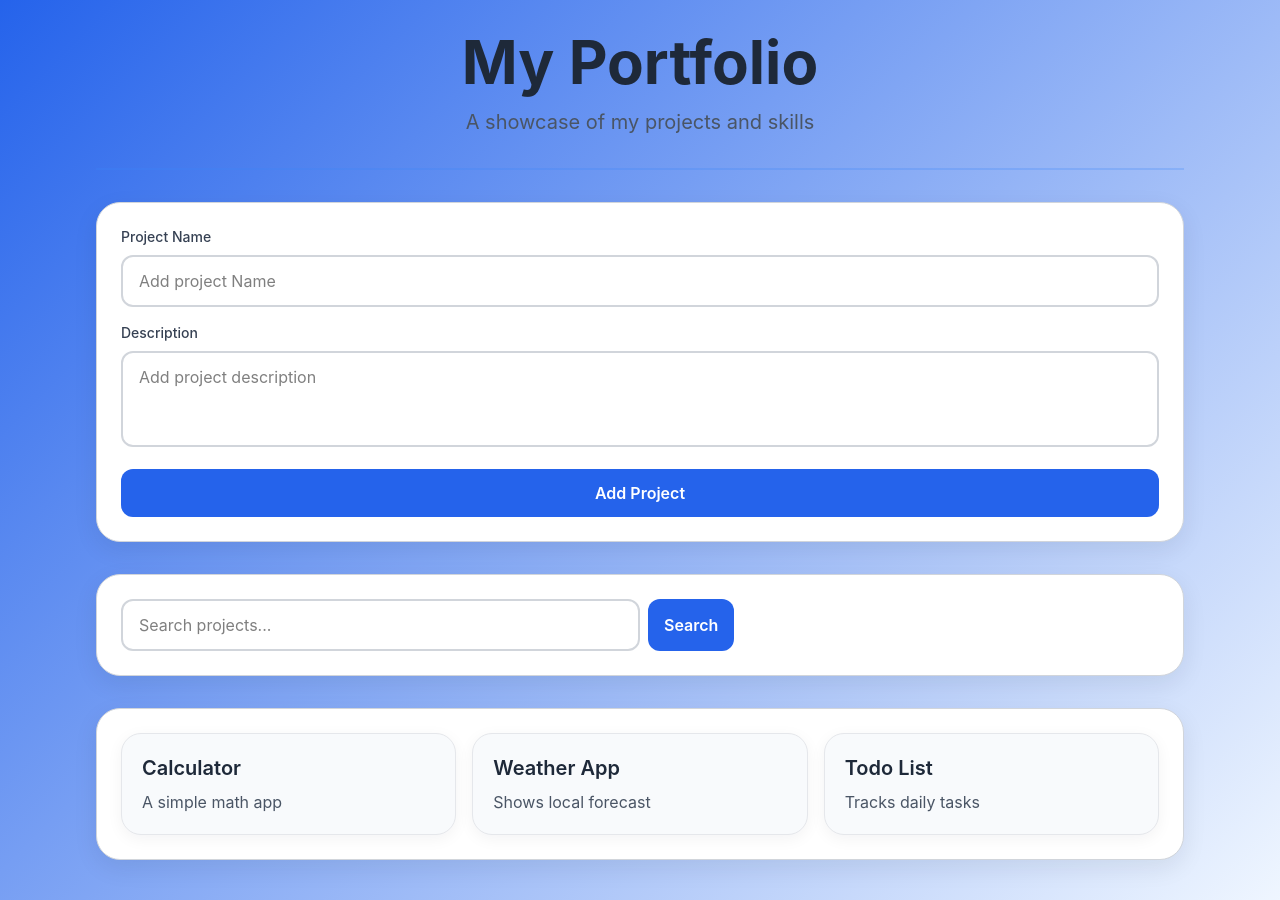
Test: App search behavior › finds searched items from the mocked db.json response
Expected: the heading "Calculator" is shown, [142,756,241,780]
Expected: the heading "Weather App" is shown, [493,756,620,780]
Type "weather" into the field with placeholder "Search projects..." at (380, 625), box [121,599,640,651]
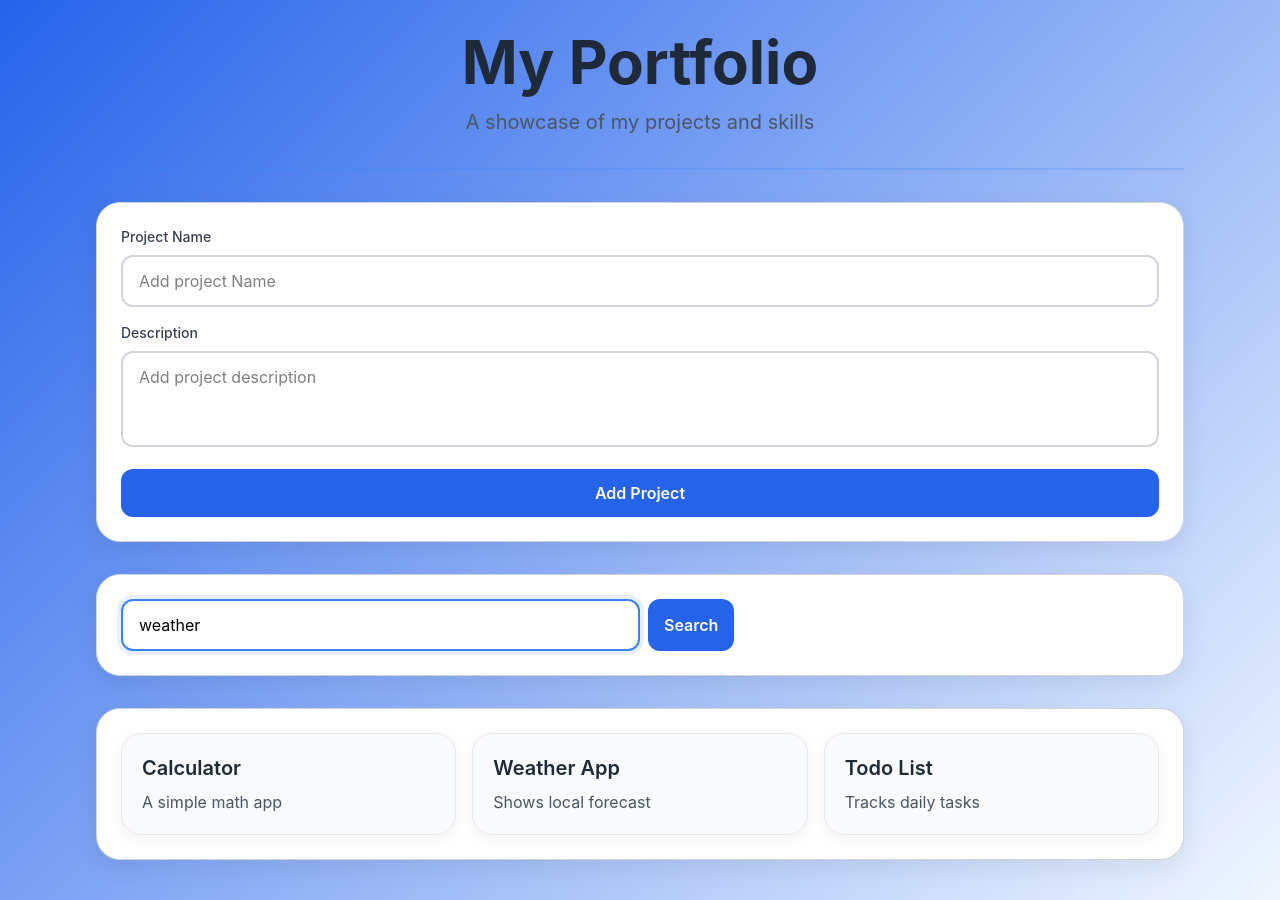
Click the button "Search" at (691, 625), box [648,599,734,651]
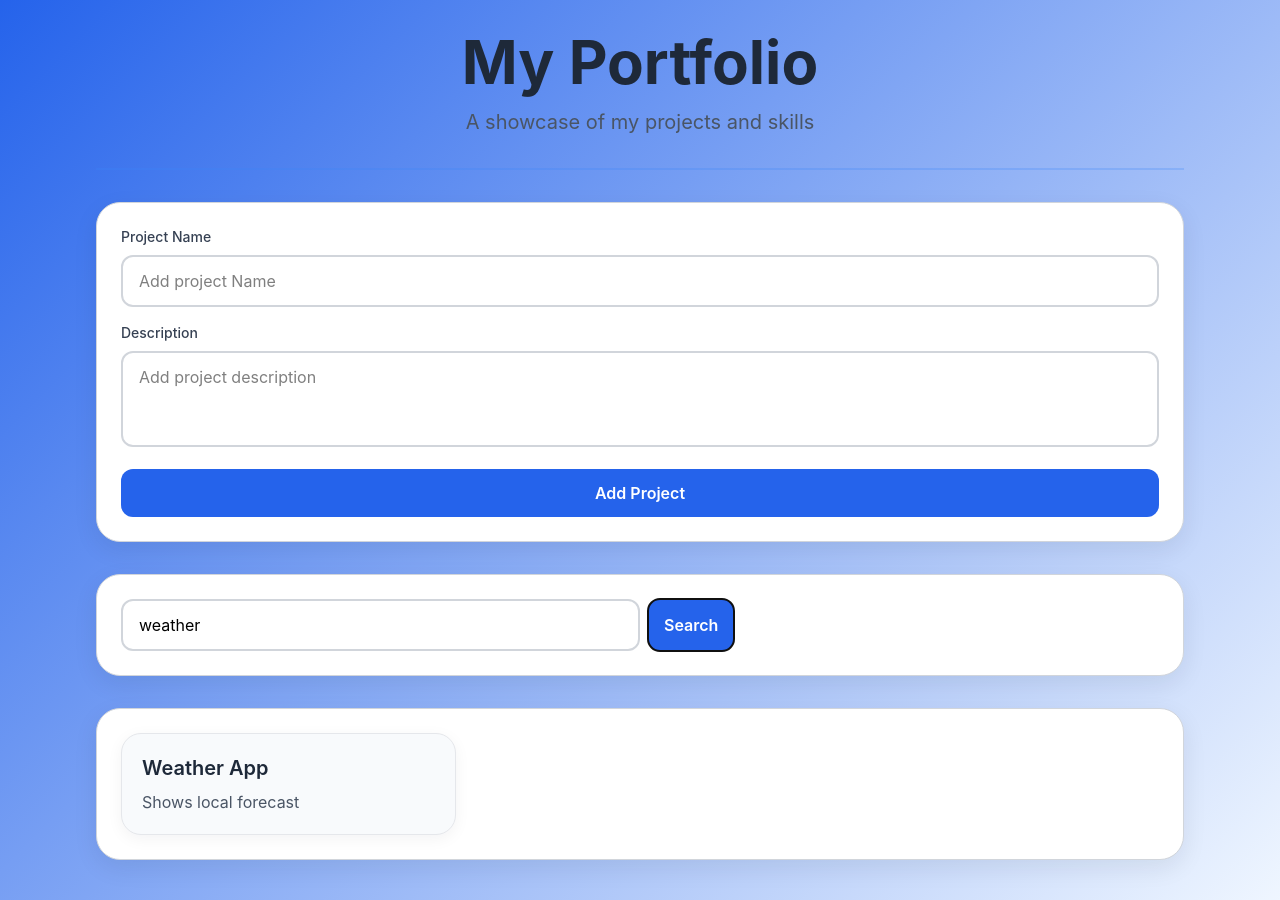
Expected: the heading "Weather App" is shown, [142,756,269,780]
Expected: the heading "Calculator" is gone
Expected: the heading "Todo List" is gone
